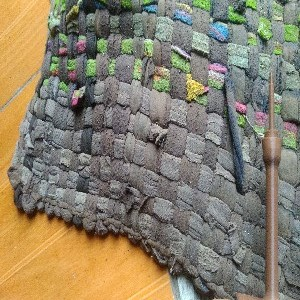solder: (262, 71, 282, 300)
